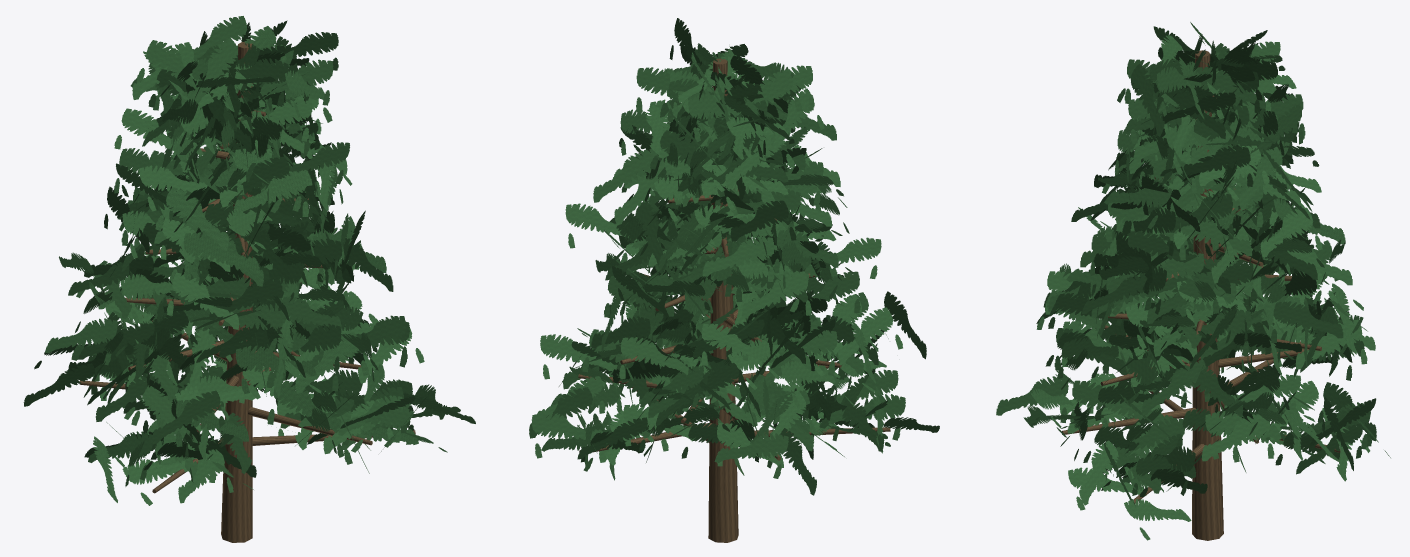
3 renders of one model, left to right at view 1: azimuth 30°, elevation 25°; view 2: azimuth 150°, elevation 25°; view 3: azimuth 270°, elevation 25°, orthographic. The views are drawn at different scales.
Parts seen in each view (by area): view 1: pine-needle, pine-bark; view 2: pine-needle, pine-bark; view 3: pine-needle, pine-bark.
Part boxes in pixels (<box>): pine-needle: <box>23,16,475,505</box>; pine-bark: <box>79,42,415,542</box>; pine-needle: <box>529,18,939,495</box>; pine-bark: <box>578,58,890,542</box>; pine-needle: <box>996,22,1390,540</box>; pine-bark: <box>1062,50,1340,540</box>.
Size of the model in its own units: 8.59 by 10.37 by 7.65.
Materials: 2 (2 with a texture image).
